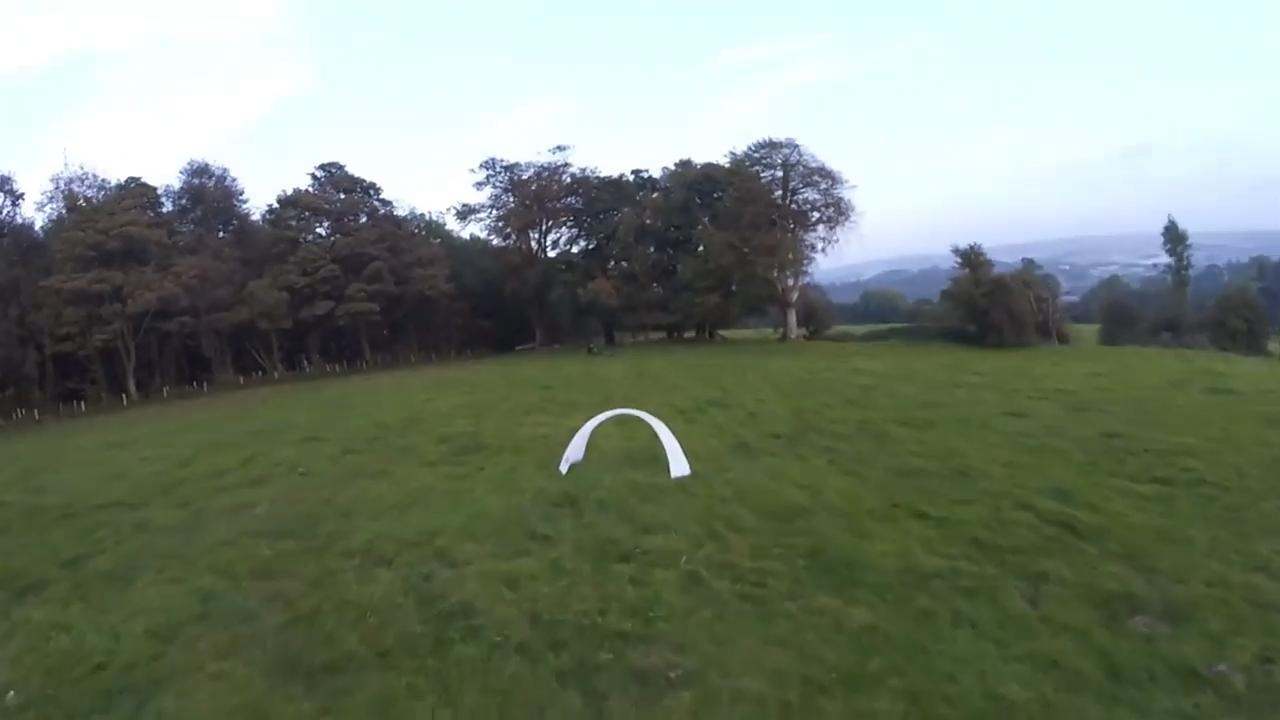gate: (557, 406, 691, 484)
